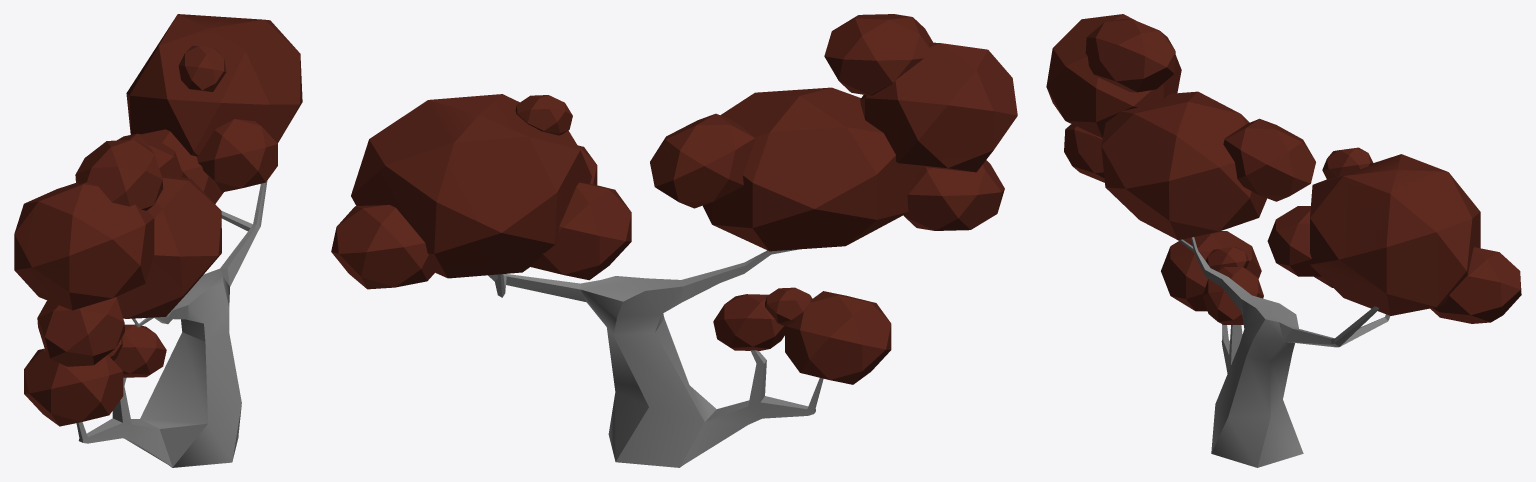
Rendered from mesh_arbre_2.fbx.
3 renders of one model, left to right at view 1: azimuth 30°, elevation 25°; view 2: azimuth 150°, elevation 25°; view 3: azimuth 270°, elevation 25°, orthographic. The views are drawn at different scales.
Visible parts, largest first — view 1: Object002; view 2: Object002; view 3: Object002.
Boxes of the visible parts, x1,y1,x2,y2 form: Object002: [14, 14, 302, 467]; Object002: [331, 14, 1017, 467]; Object002: [1046, 14, 1521, 467].
Bounding box in the file's own units: 0.2978 × 0.2569 × 0.3073.
